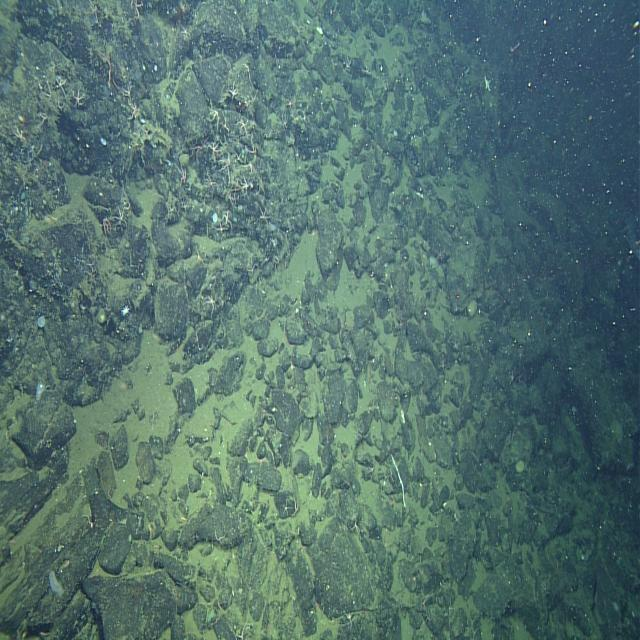Brittle Star: (95, 41, 125, 100), (121, 94, 150, 133), (204, 99, 230, 132), (200, 286, 223, 321), (208, 522, 232, 552), (81, 255, 102, 288), (36, 72, 56, 105), (254, 201, 275, 231), (114, 198, 132, 232), (274, 107, 293, 139), (119, 74, 138, 105), (283, 352, 301, 383), (173, 161, 192, 190), (240, 56, 257, 88), (70, 82, 88, 112), (233, 112, 252, 140), (219, 206, 236, 237), (52, 70, 70, 99), (34, 107, 52, 134), (224, 77, 241, 104), (237, 172, 254, 198), (99, 215, 112, 247), (11, 124, 27, 143), (54, 178, 63, 200)
Not Brittle Star: (47, 566, 65, 600), (482, 72, 494, 94), (36, 313, 47, 332)
